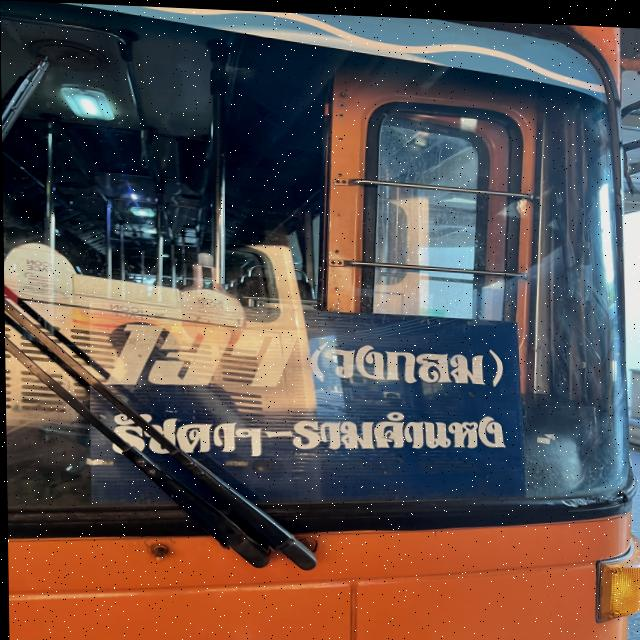Destination Sign: (93, 297, 528, 498)
